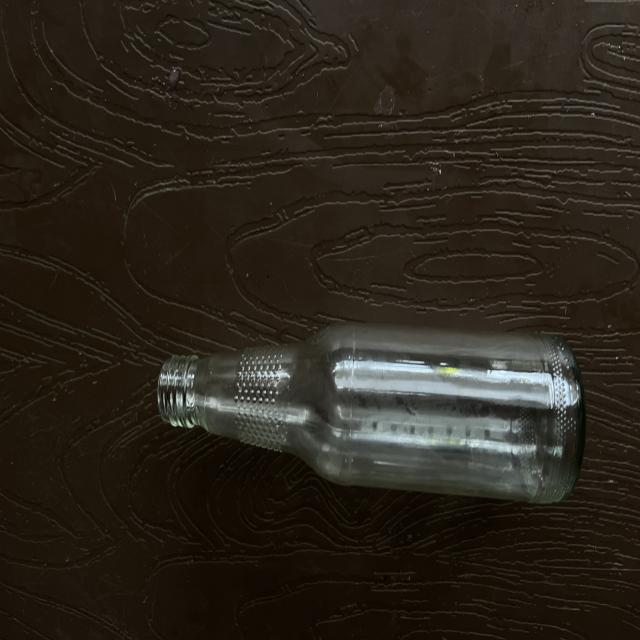PET_With_Liquid: (184, 324, 584, 501)
